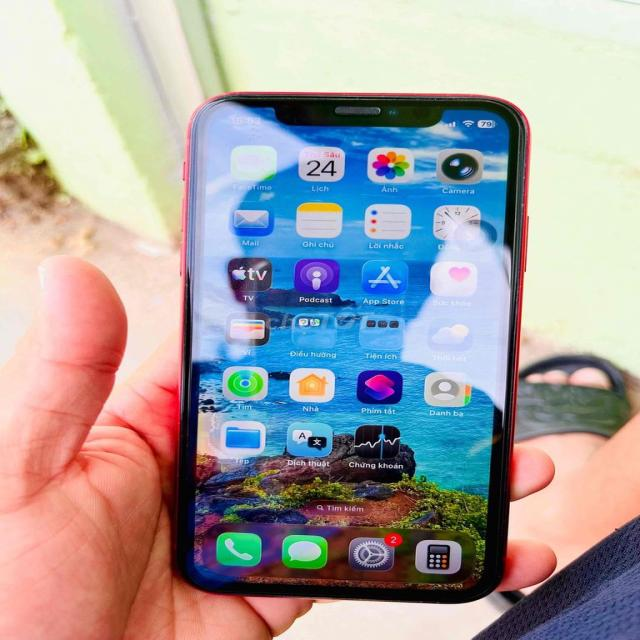gen_11: (156, 70, 534, 612)
